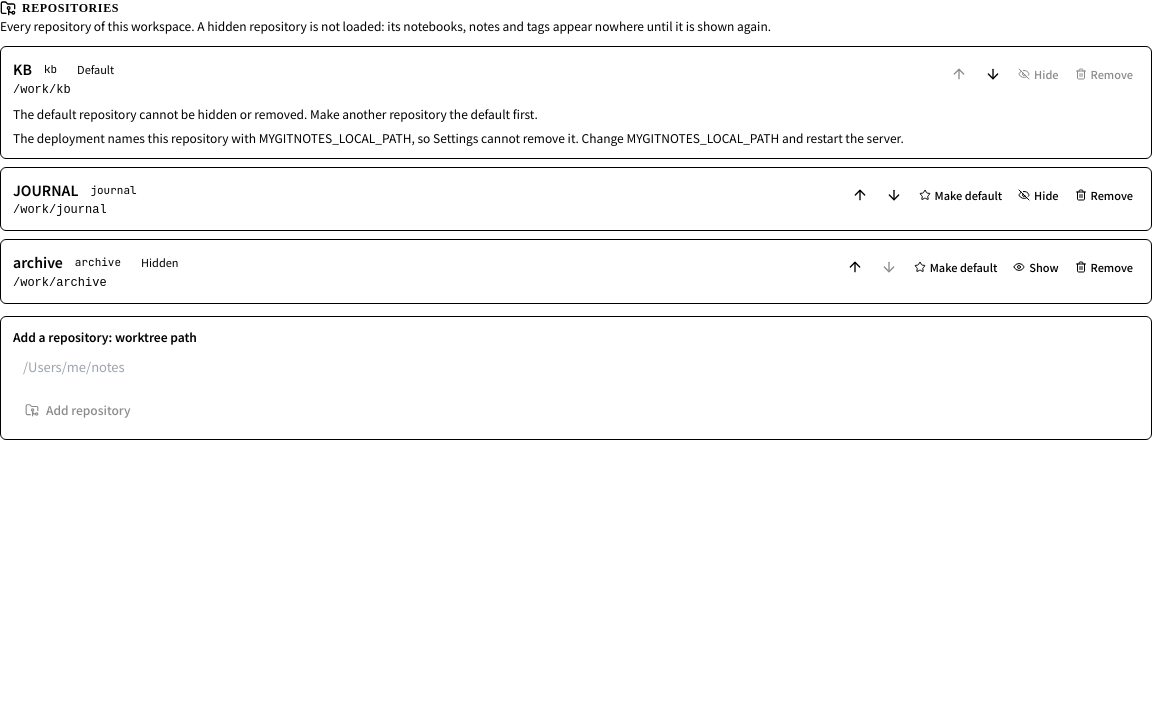
Test case: refuses to remove a hidden repository this browser holds drafts for, found by the branch the list names
Check: the text "JOURNAL" is shown, box [13,180,78,200]
// The workspace did not load the hidden repository, so only the list says where its drafts are.
Click the button "Remove" in the row of "/work/archive".
click(1104, 267)  # box [1069,255,1139,279]
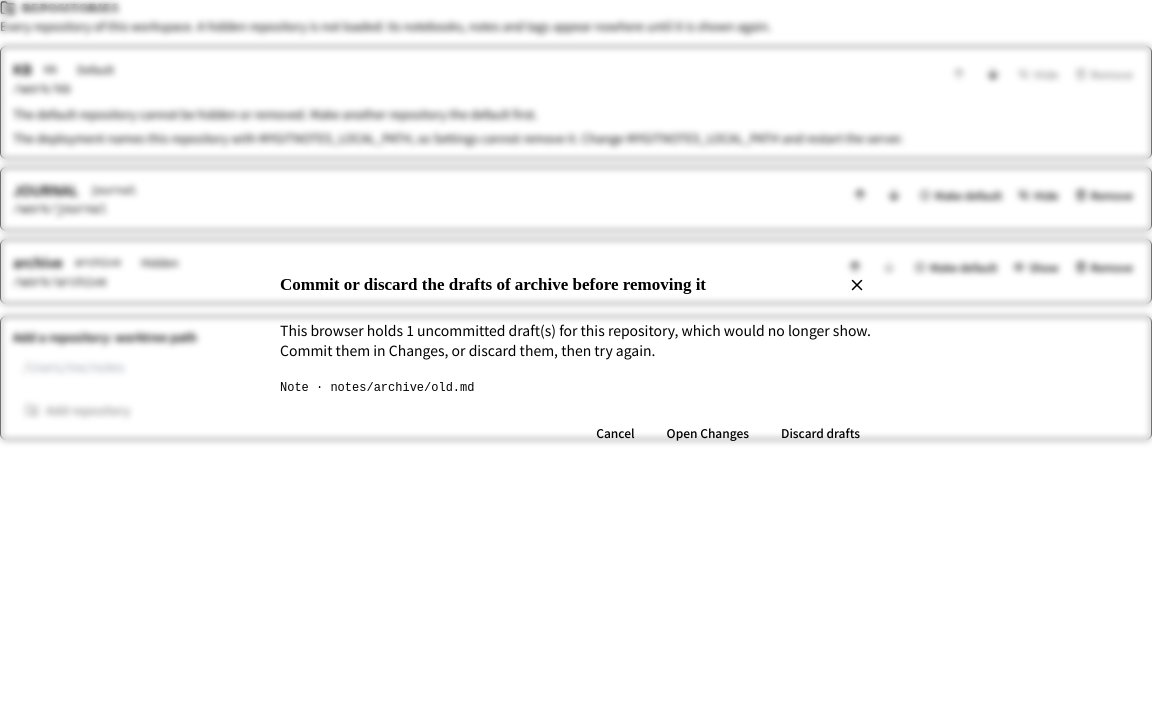
Check: the list item "Note · notes/archive/old.md" is shown, box [280,381,474,395]
